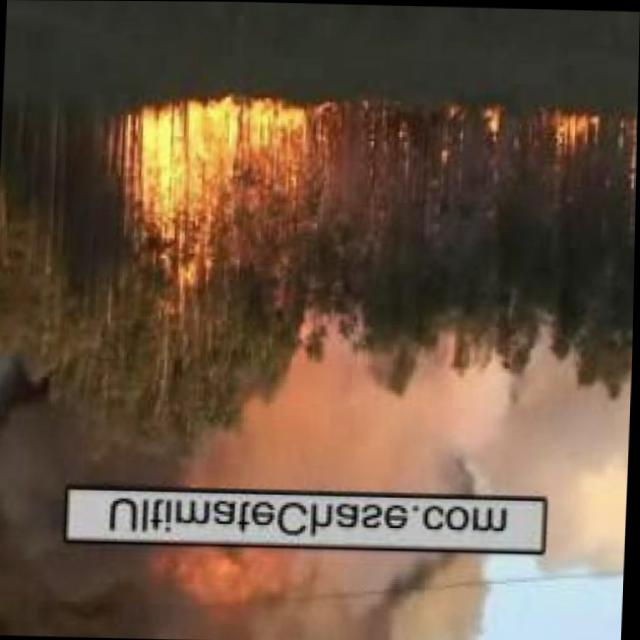Fire: (109, 92, 319, 290), (432, 102, 501, 169), (541, 108, 606, 153)
